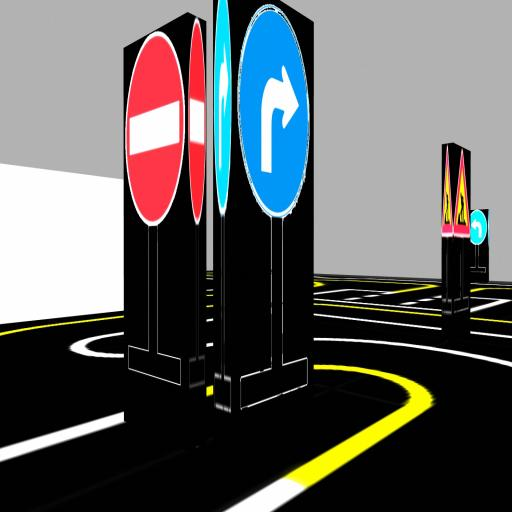Do Not Enter: (125, 32, 185, 225), (188, 18, 205, 224)
Right Turn: (237, 7, 310, 217), (213, 0, 233, 214)
